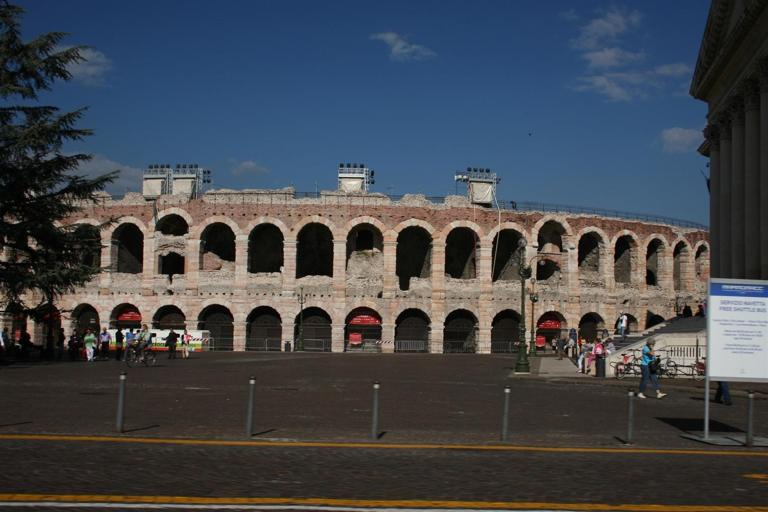non-vehicle: (123, 340, 157, 368), (612, 348, 642, 379), (649, 349, 677, 380), (691, 355, 706, 381)
